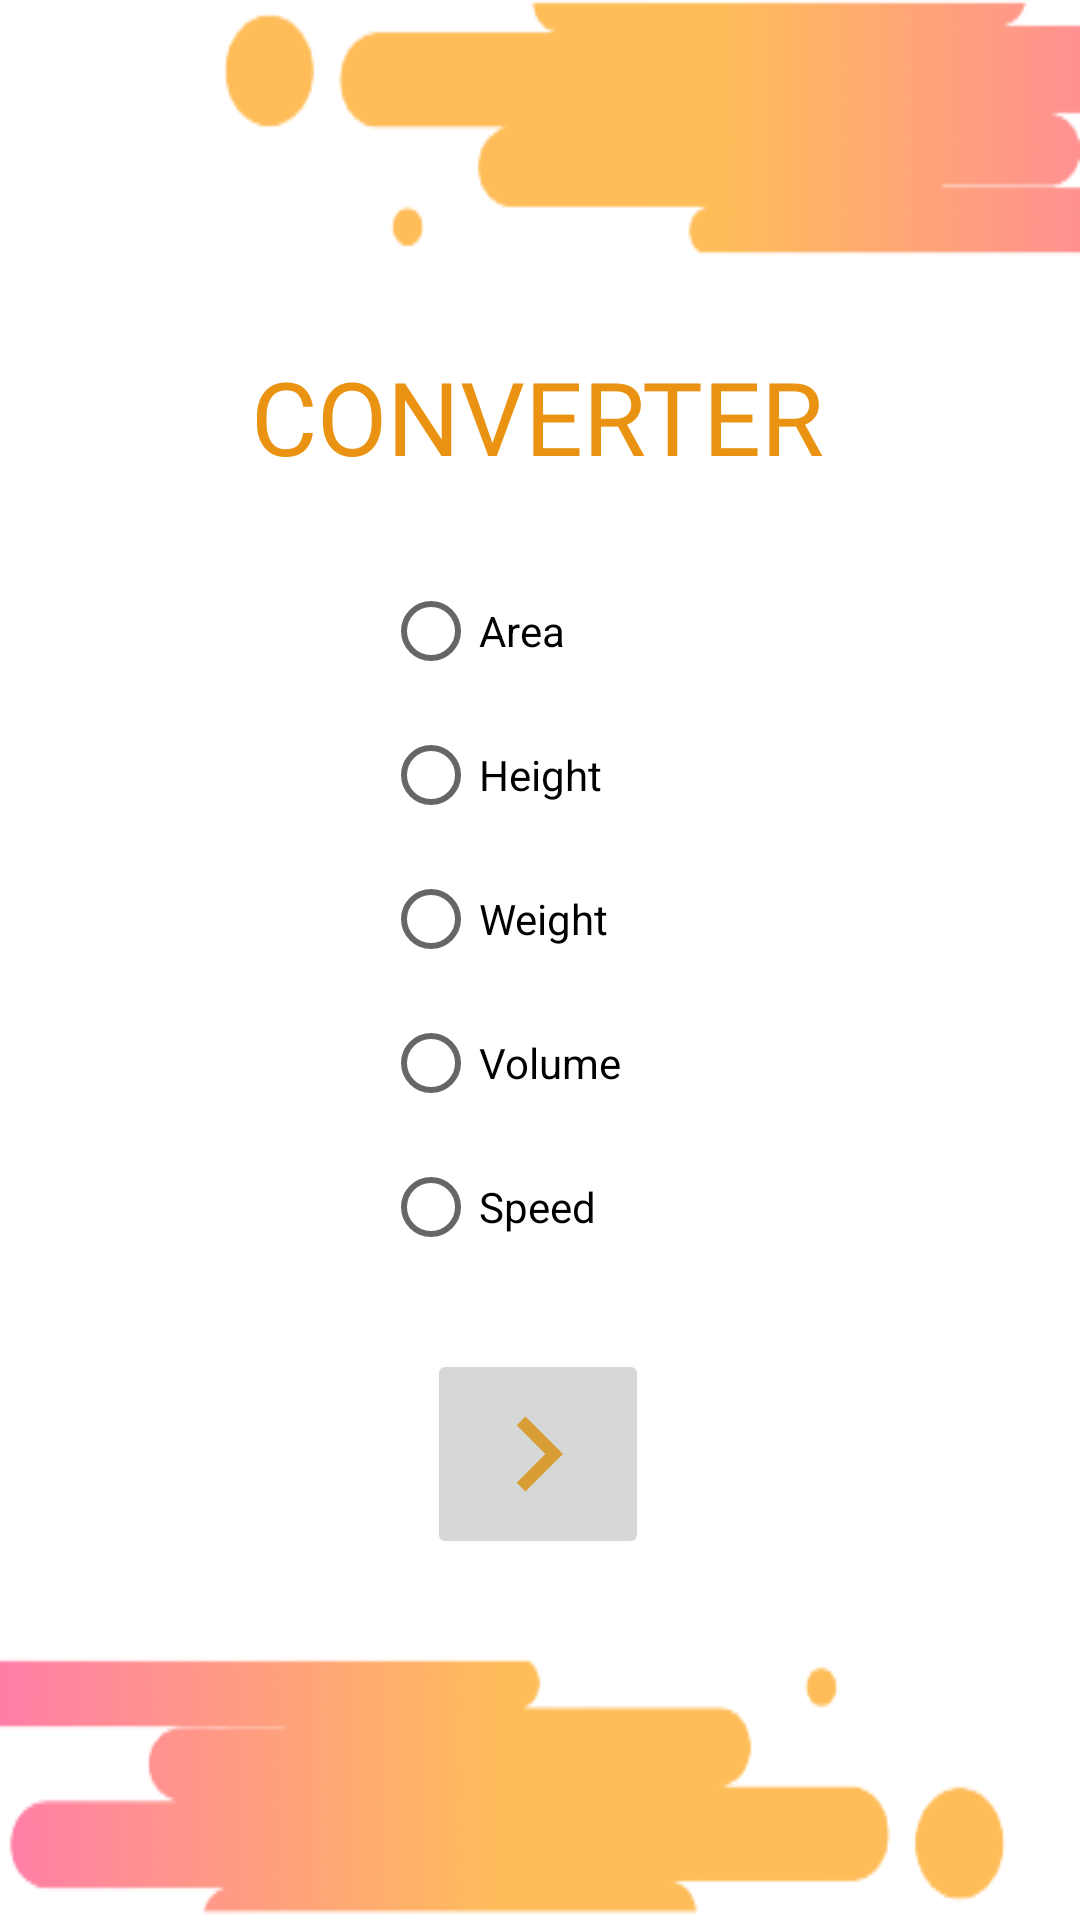

Where to tap for icons on this 1080px x 1920px app screen, as (x,y):
next: (538,1454)
